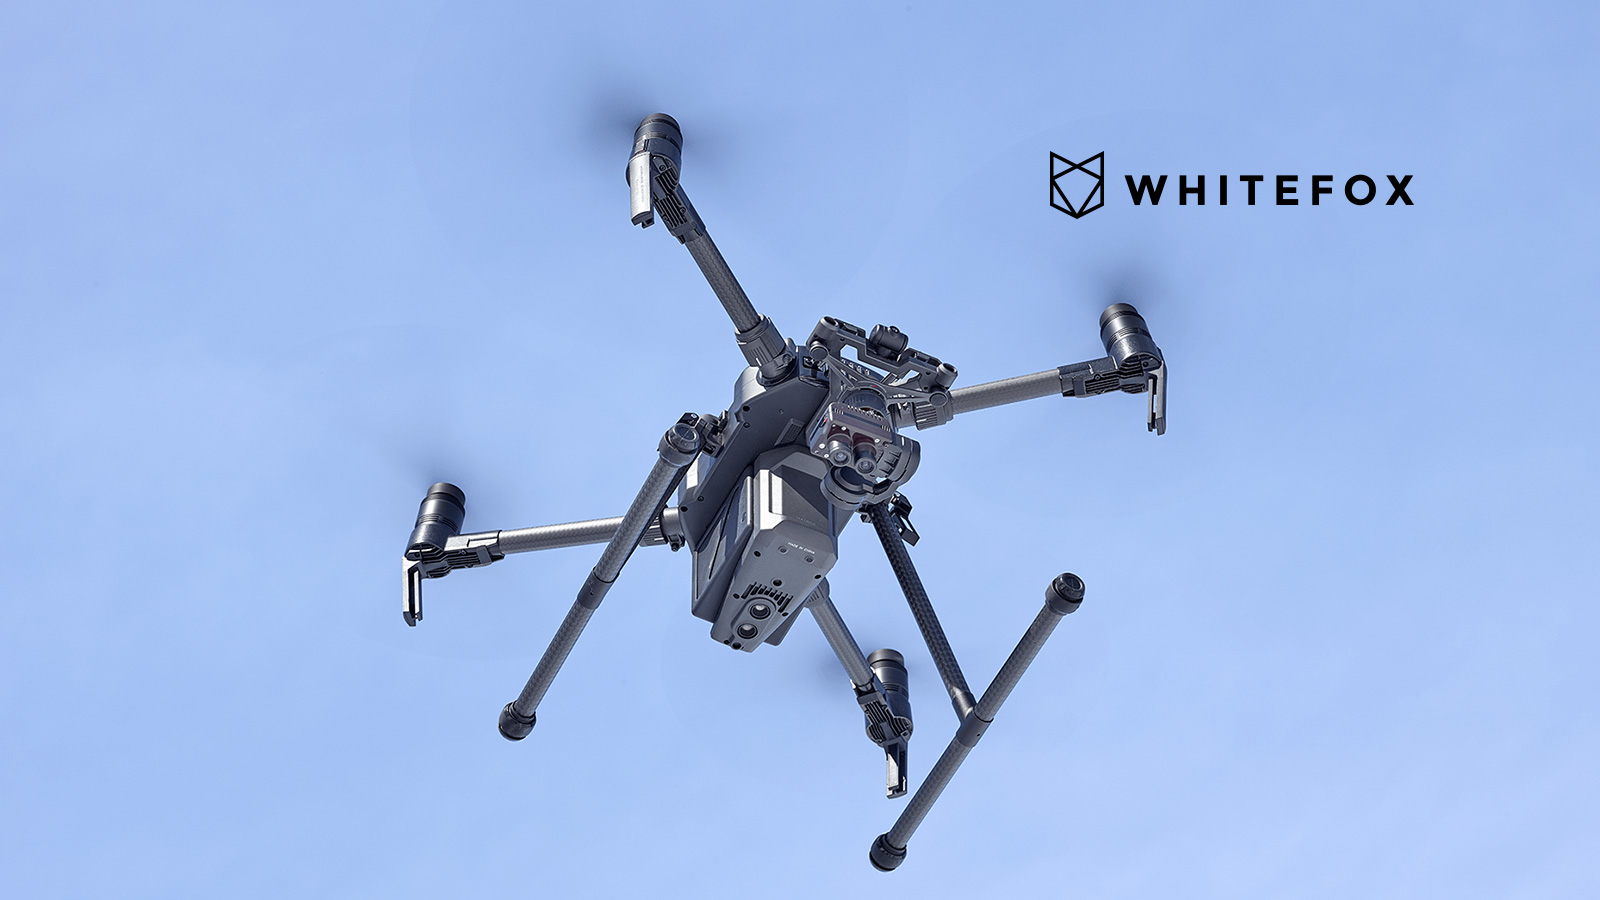drone: (386, 103, 1189, 884)
